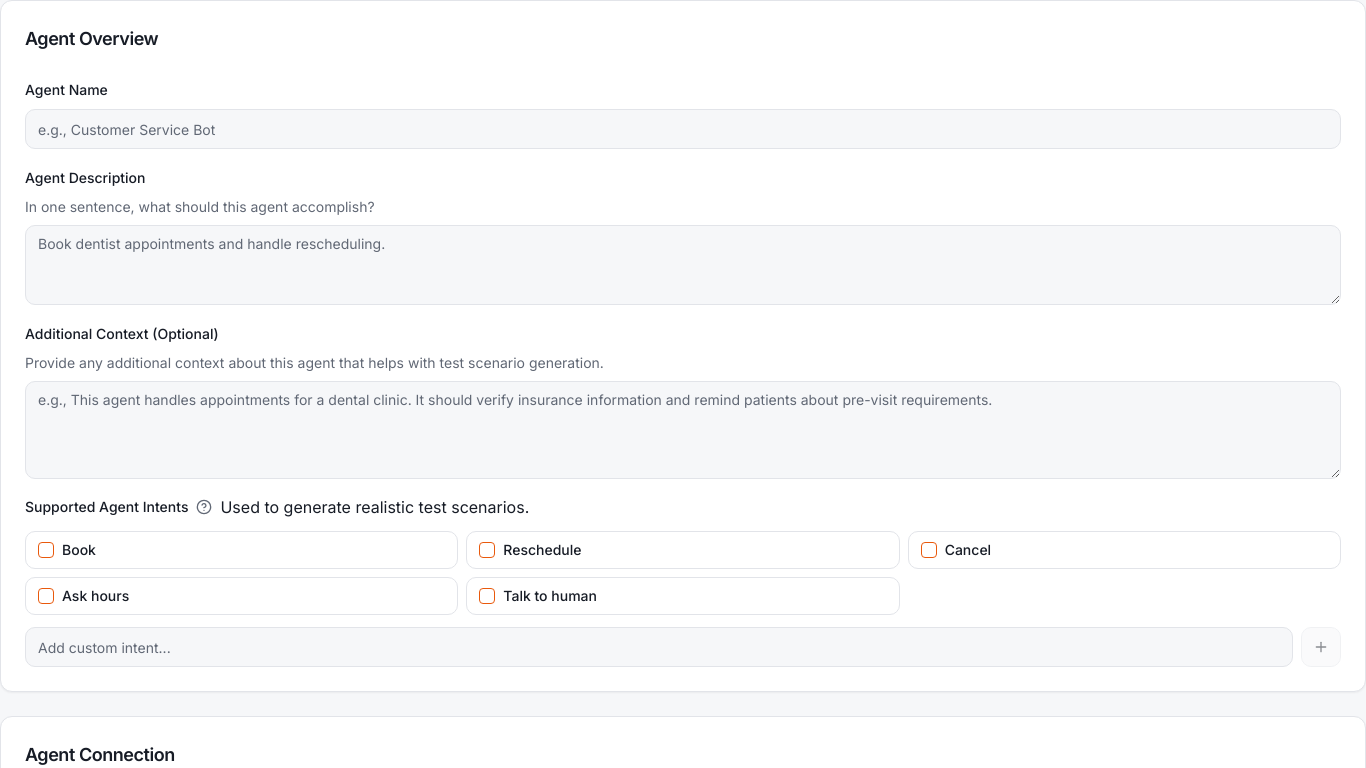
AgentConfigForm › validation › shows error when description is empty
The image size is (1366, 768).
Type "Test" into the field labelled "Agent Name".
click(683, 129); type("Test")  # box [25,109,1341,149]
(page scrolled)
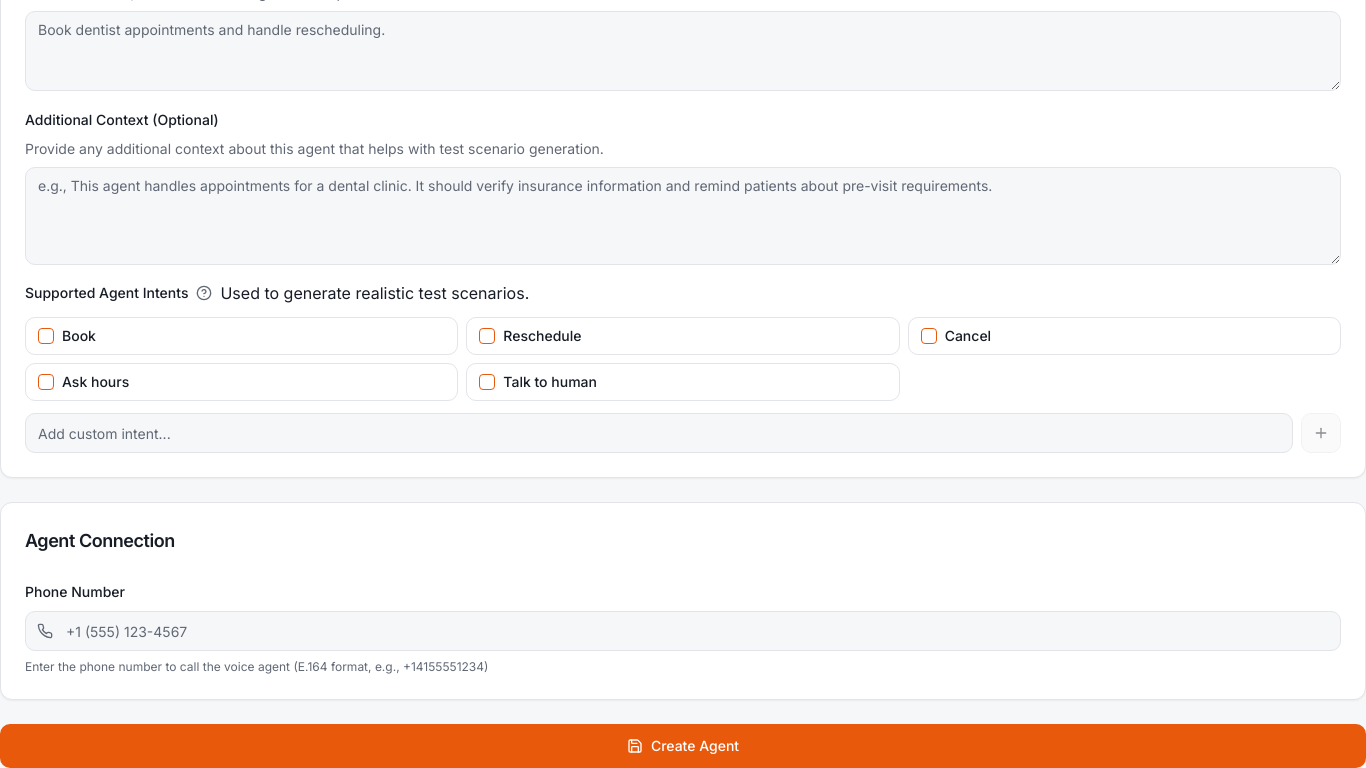
Click the button "Create Agent".
click(683, 746)  # box [0,724,1365,767]
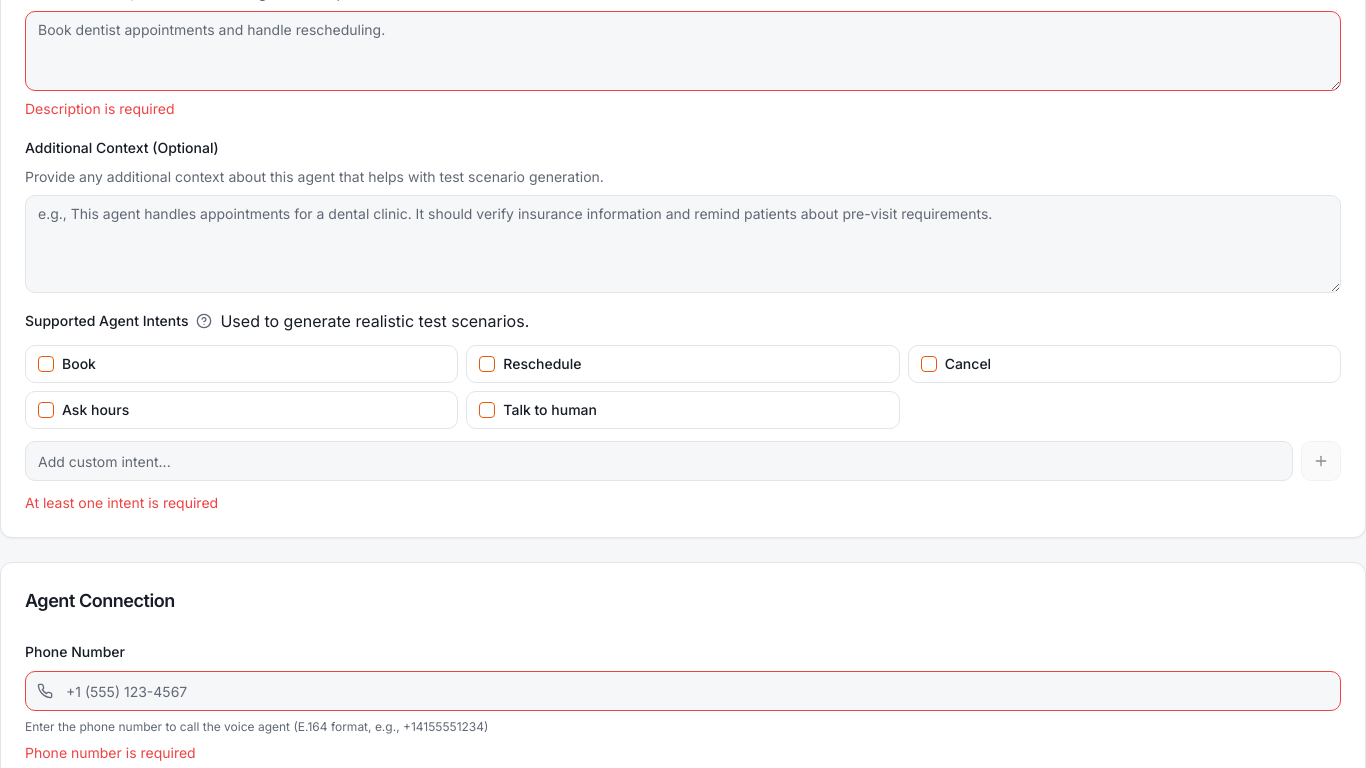
Now the text "Description is required" is shown, box [25,100,174,117]
